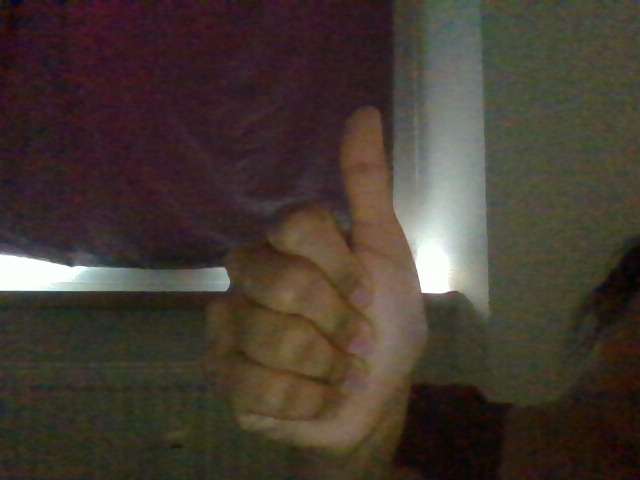Thumbs up: (195, 100, 454, 461)
